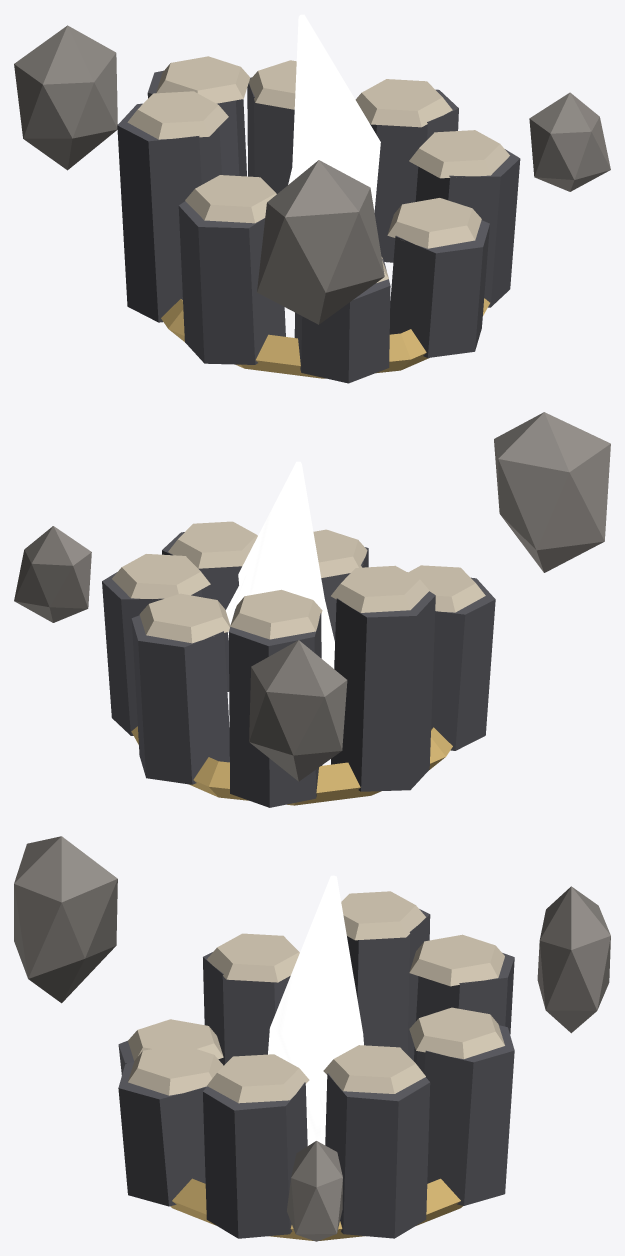
Rendered from elemental-crown.glb.
The picture shows the model from 3 angles, top to bottom: view 1: azimuth 30°, elevation 25°; view 2: azimuth 150°, elevation 25°; view 3: azimuth 270°, elevation 25°; orthographic projection. The views are drawn at different scales.
Parts seen in each view (by area): view 1: crown, spin_stones, flick_flame; view 2: crown, spin_stones, flick_flame; view 3: crown, spin_stones, flick_flame.
Part boxes in pixels (left/top/right/bottom): crown: left=117, top=56, right=520, bottom=383; spin_stones: left=14, top=25, right=610, bottom=324; flick_flame: left=288, top=14, right=380, bottom=212; crown: left=102, top=521, right=495, bottom=807; spin_stones: left=14, top=412, right=610, bottom=781; flick_flame: left=225, top=461, right=334, bottom=668; crown: left=118, top=891, right=514, bottom=1240; spin_stones: left=14, top=836, right=610, bottom=1241; flick_flame: left=268, top=875, right=363, bottom=1145.
Bounding box in the file's own units: 0.3176 × 0.1884 × 0.345.
